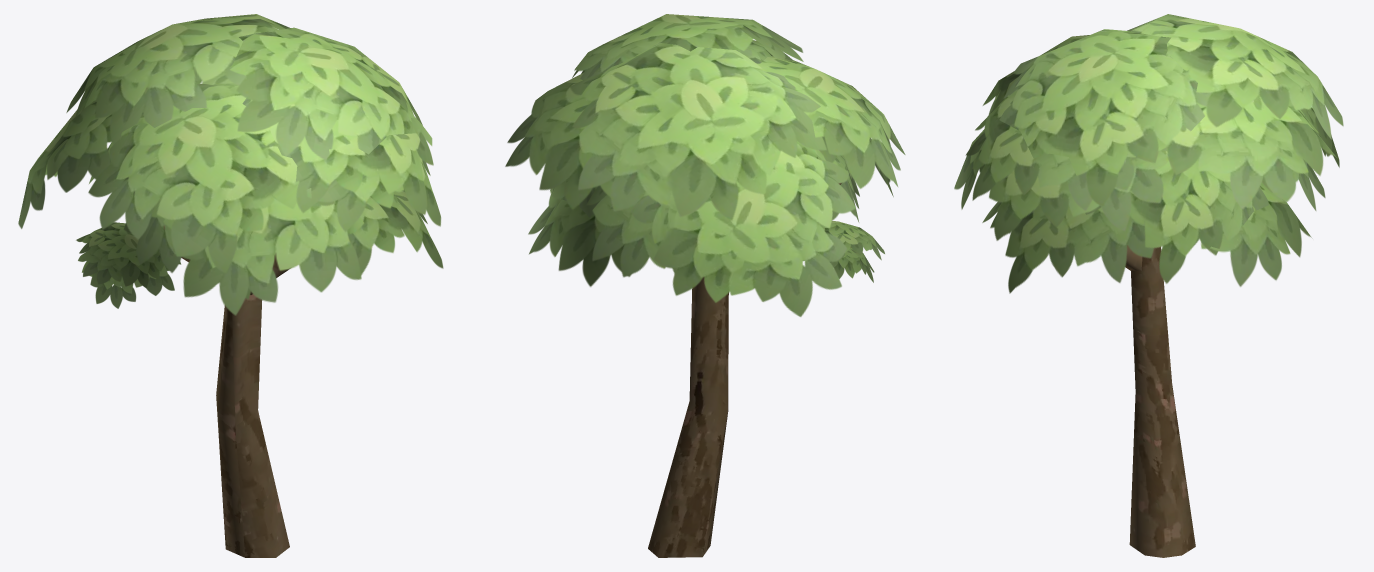
File: street-tree-1-lo.glb
3 views of the same model, side by side, from view 1: azimuth 30°, elevation 25°; view 2: azimuth 150°, elevation 25°; view 3: azimuth 270°, elevation 25° (orthographic).
Visible parts, largest first — view 1: Tree_1; view 2: Tree_1; view 3: Tree_1.
Boxes of the visible parts, bbox=[...] form: Tree_1: bbox=[18, 14, 443, 557]; Tree_1: bbox=[505, 14, 905, 557]; Tree_1: bbox=[954, 14, 1343, 557].
Size of the model in its own units: 4.14 by 5.55 by 4.13.
Materials: 2 (2 with a texture image).
